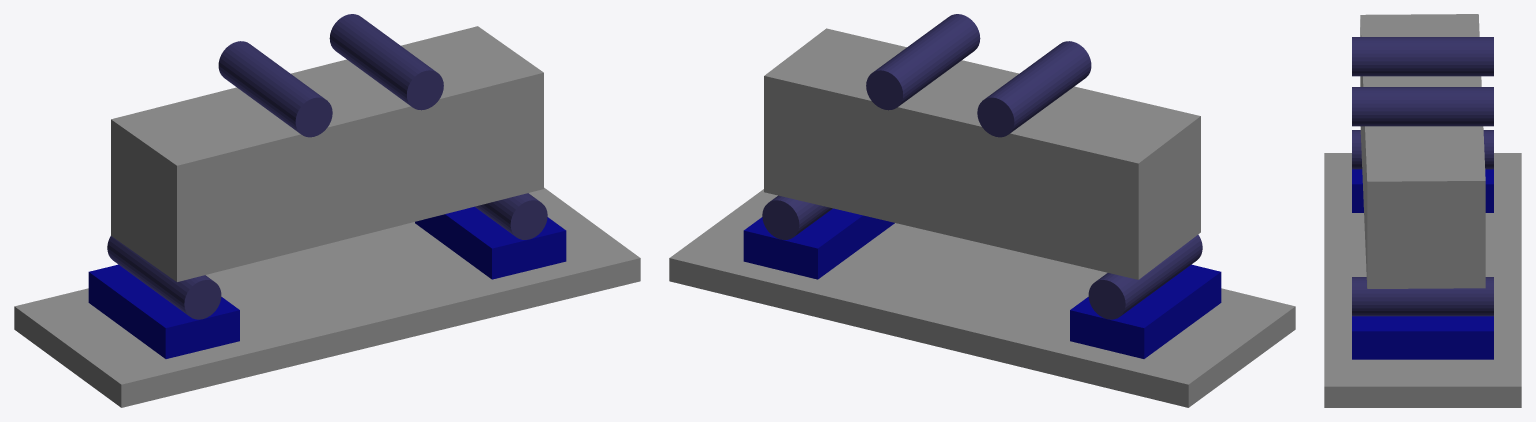
Rendered from viga.glb.
3 views of the same model, side by side, from view 1: azimuth 30°, elevation 25°; view 2: azimuth 150°, elevation 25°; view 3: azimuth 270°, elevation 25° (orthographic). The views are drawn at different scales.
Visible parts, largest first — view 1: VIGA 15x15x50, base_metalica, Cube, Cube.001, cabezal superior 1, cabezal superior 2, Rodiloo 1, Rodillo2; view 2: VIGA 15x15x50, base_metalica, Cube, Cube.001, cabezal superior 1, cabezal superior 2, Rodiloo 1, Rodillo2; view 3: VIGA 15x15x50, base_metalica, Cube.001, cabezal superior 1, cabezal superior 2, Rodillo2, Cube, Rodiloo 1.
Part boxes in pixels (<box>): VIGA 15x15x50: <box>111,26,543,281</box>; base_metalica: <box>14,187,640,407</box>; Cube: <box>88,264,239,358</box>; Cube.001: <box>415,206,566,279</box>; cabezal superior 1: <box>218,41,332,137</box>; cabezal superior 2: <box>329,14,443,110</box>; Rodiloo 1: <box>107,236,221,319</box>; Rodillo2: <box>475,193,547,239</box>; VIGA 15x15x50: <box>764,28,1200,279</box>; base_metalica: <box>669,189,1295,407</box>; Cube: <box>1070,264,1221,358</box>; Cube.001: <box>743,208,894,279</box>; cabezal superior 1: <box>977,41,1091,137</box>; cabezal superior 2: <box>866,14,980,110</box>; Rodiloo 1: <box>1088,234,1202,319</box>; Rodillo2: <box>762,195,832,239</box>; VIGA 15x15x50: <box>1360,14,1485,288</box>; base_metalica: <box>1324,153,1521,407</box>; Cube.001: <box>1352,316,1493,359</box>; cabezal superior 1: <box>1352,37,1493,76</box>; cabezal superior 2: <box>1352,87,1493,126</box>; Rodillo2: <box>1352,277,1493,316</box>; Cube: <box>1352,169,1493,212</box>; Rodiloo 1: <box>1352,130,1493,169</box>.
Bounding box in the file's own units: 0.7 × 0.32 × 0.25.
